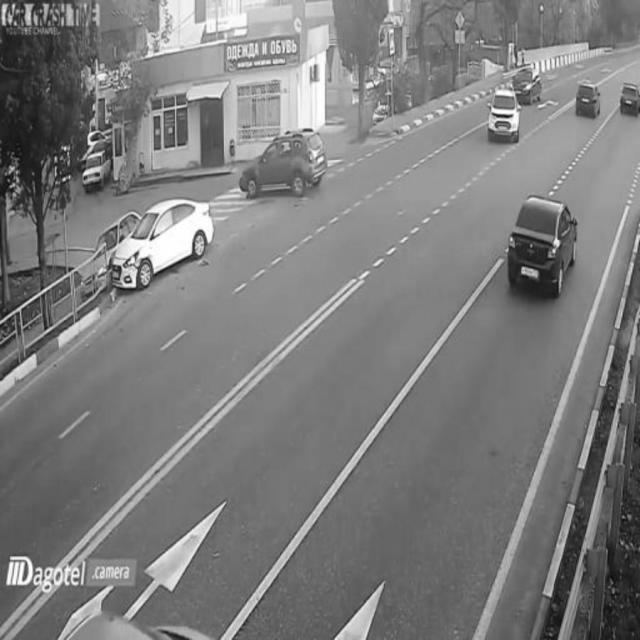accident: (83, 197, 215, 291)
vehicle: (502, 190, 576, 296), (238, 130, 326, 191), (486, 88, 522, 139), (510, 59, 546, 104), (572, 77, 606, 124), (80, 152, 108, 192), (616, 76, 640, 116)
